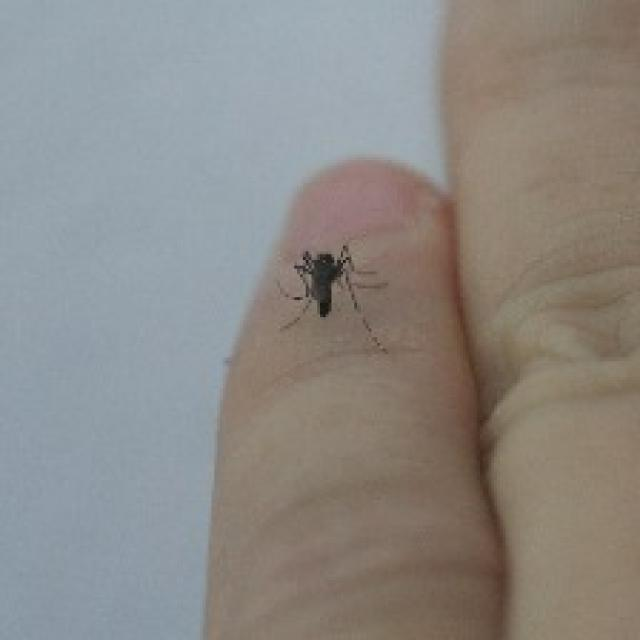aedes: (272, 237, 392, 357)
